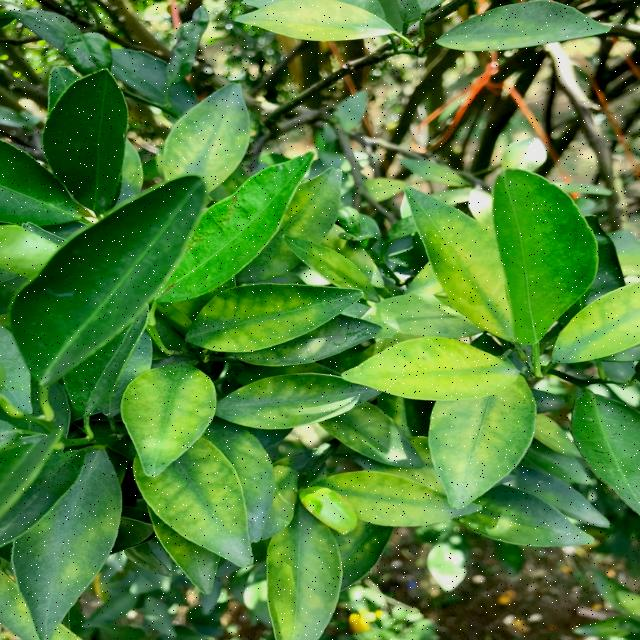blackspot: (410, 192, 520, 342), (430, 390, 541, 503), (361, 338, 506, 398), (125, 360, 195, 471), (345, 479, 447, 519)
